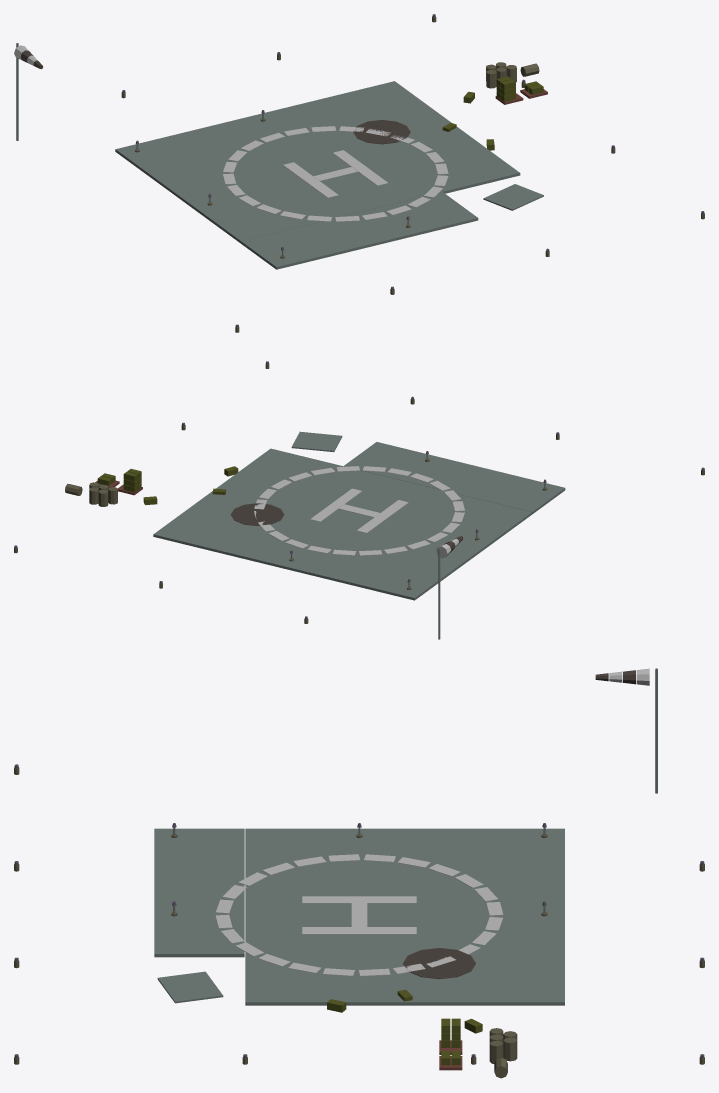
Rendered from SM_Helipuerto_v2_LOD0.fbx.
3 renders of one model, top to bottom at view 1: azimuth 30°, elevation 25°; view 2: azimuth 150°, elevation 25°; view 3: azimuth 270°, elevation 25°, orthographic. The views are drawn at different scales.
Parts seen in each view (by area): view 1: SM_bloques.helipuerto_v2_LOD0; view 2: SM_bloques.helipuerto_v2_LOD0; view 3: SM_bloques.helipuerto_v2_LOD0.
Part boxes in pixels (x1,y1,x2,y2): SM_bloques.helipuerto_v2_LOD0: [14, 16, 704, 332]; SM_bloques.helipuerto_v2_LOD0: [14, 363, 704, 639]; SM_bloques.helipuerto_v2_LOD0: [14, 668, 704, 1078].
Bounding box in the file's own units: 31.66 × 6 × 30.24.
